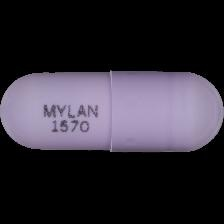0378-1570: (0, 0, 224, 224)
